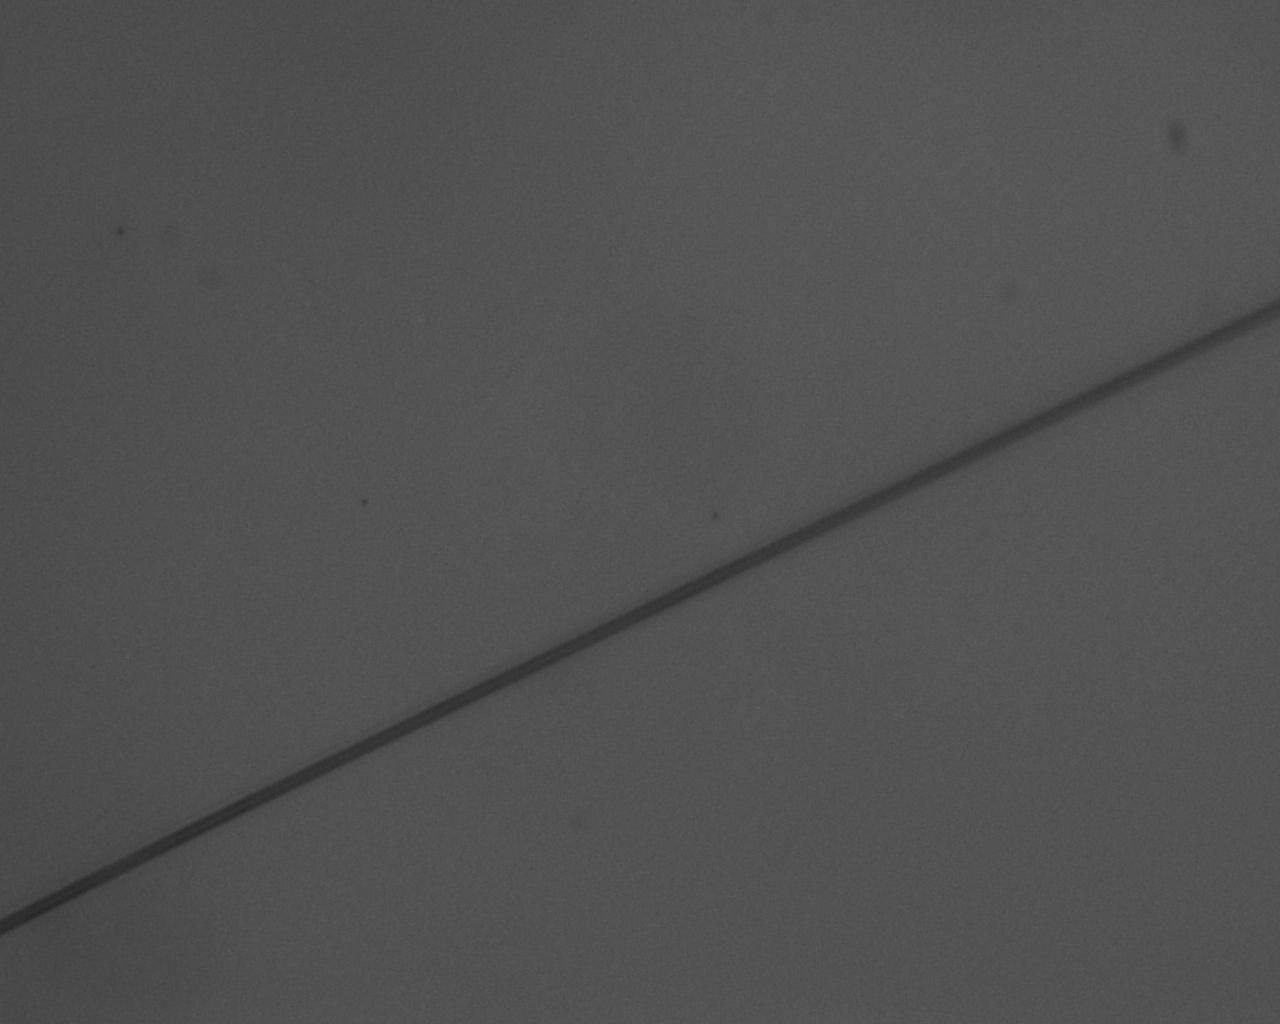fiber: (0, 298, 1280, 935)
